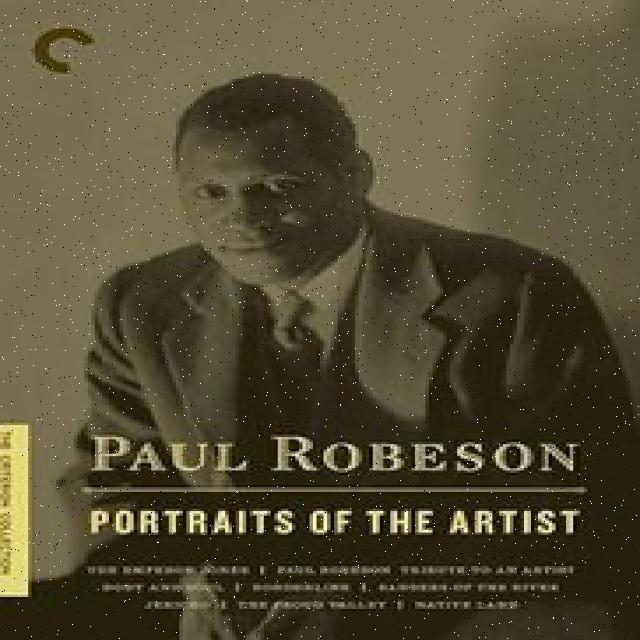movie-judul: (59, 424, 616, 626)
picture: (26, 22, 624, 624)
